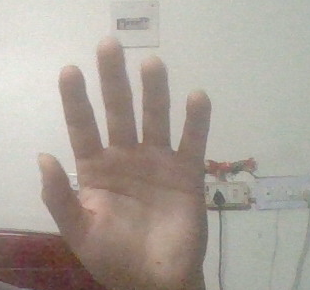move: (21, 32, 217, 276)
